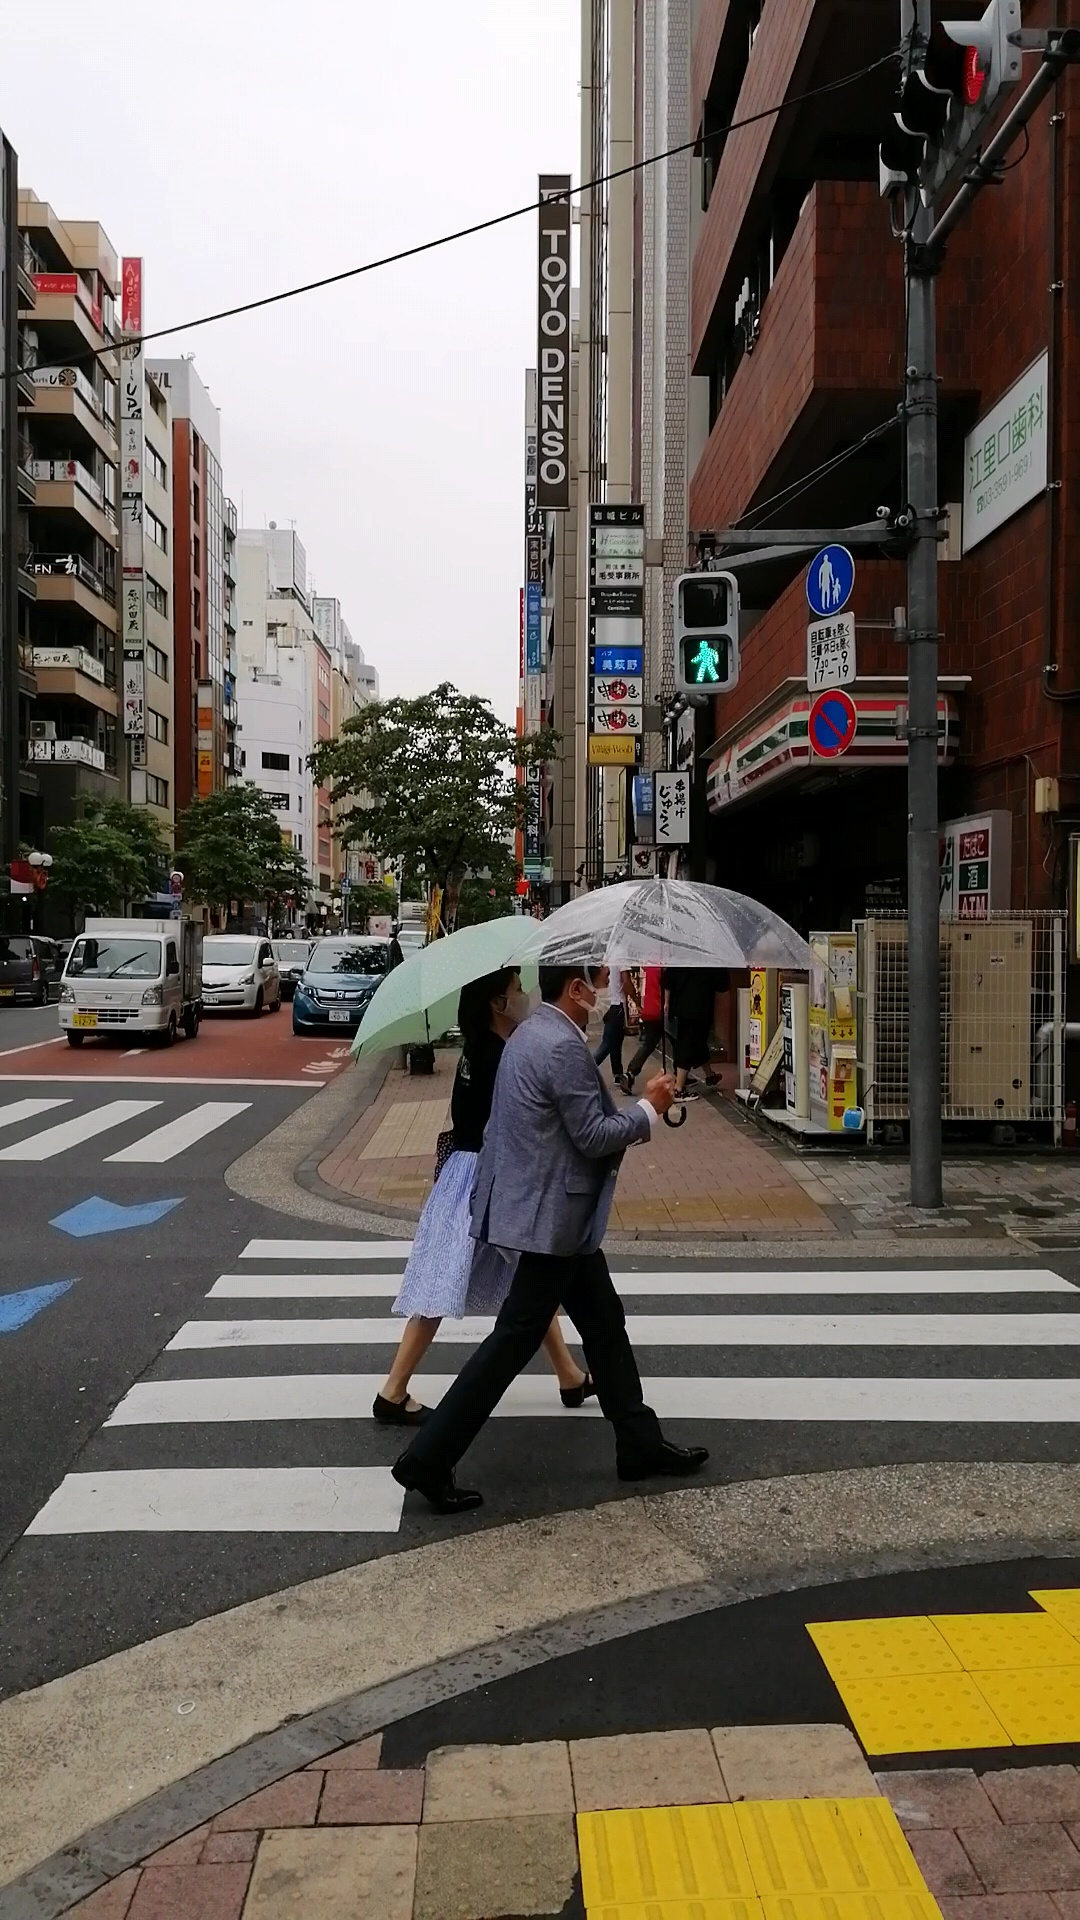green: (671, 572, 740, 698)
